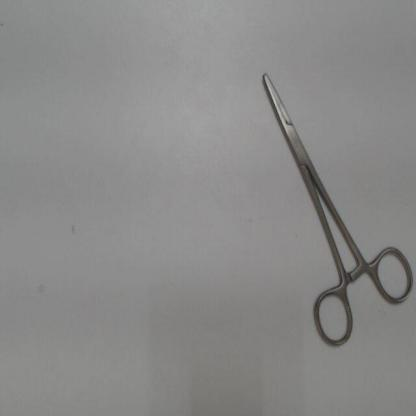Mayo Needle Holder: (247, 48, 416, 357)
